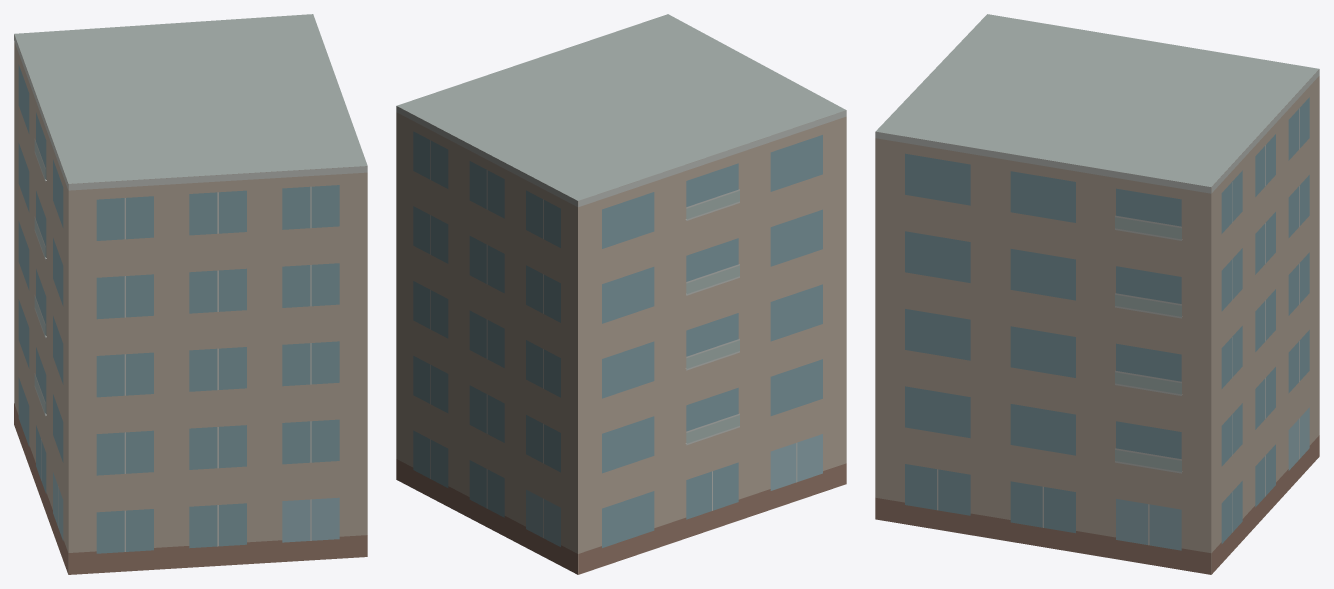
Rendered from survey-upis-32874354.glb.
The picture shows the model from 3 angles, left to right: view 1: azimuth 30°, elevation 25°; view 2: azimuth 150°, elevation 25°; view 3: azimuth 270°, elevation 25°; orthographic projection. The views are drawn at different scales.
Parts seen in each view (by area): view 1: survey-upis-32874354.tmp; view 2: survey-upis-32874354.tmp; view 3: survey-upis-32874354.tmp.
Part boxes in pixels (box(x1,y1,x2,y2)): survey-upis-32874354.tmp: box(14, 14, 367, 574); survey-upis-32874354.tmp: box(396, 14, 846, 574); survey-upis-32874354.tmp: box(875, 14, 1319, 574).
Bounding box in the file's own units: 13.8 × 14.4 × 14.96.
